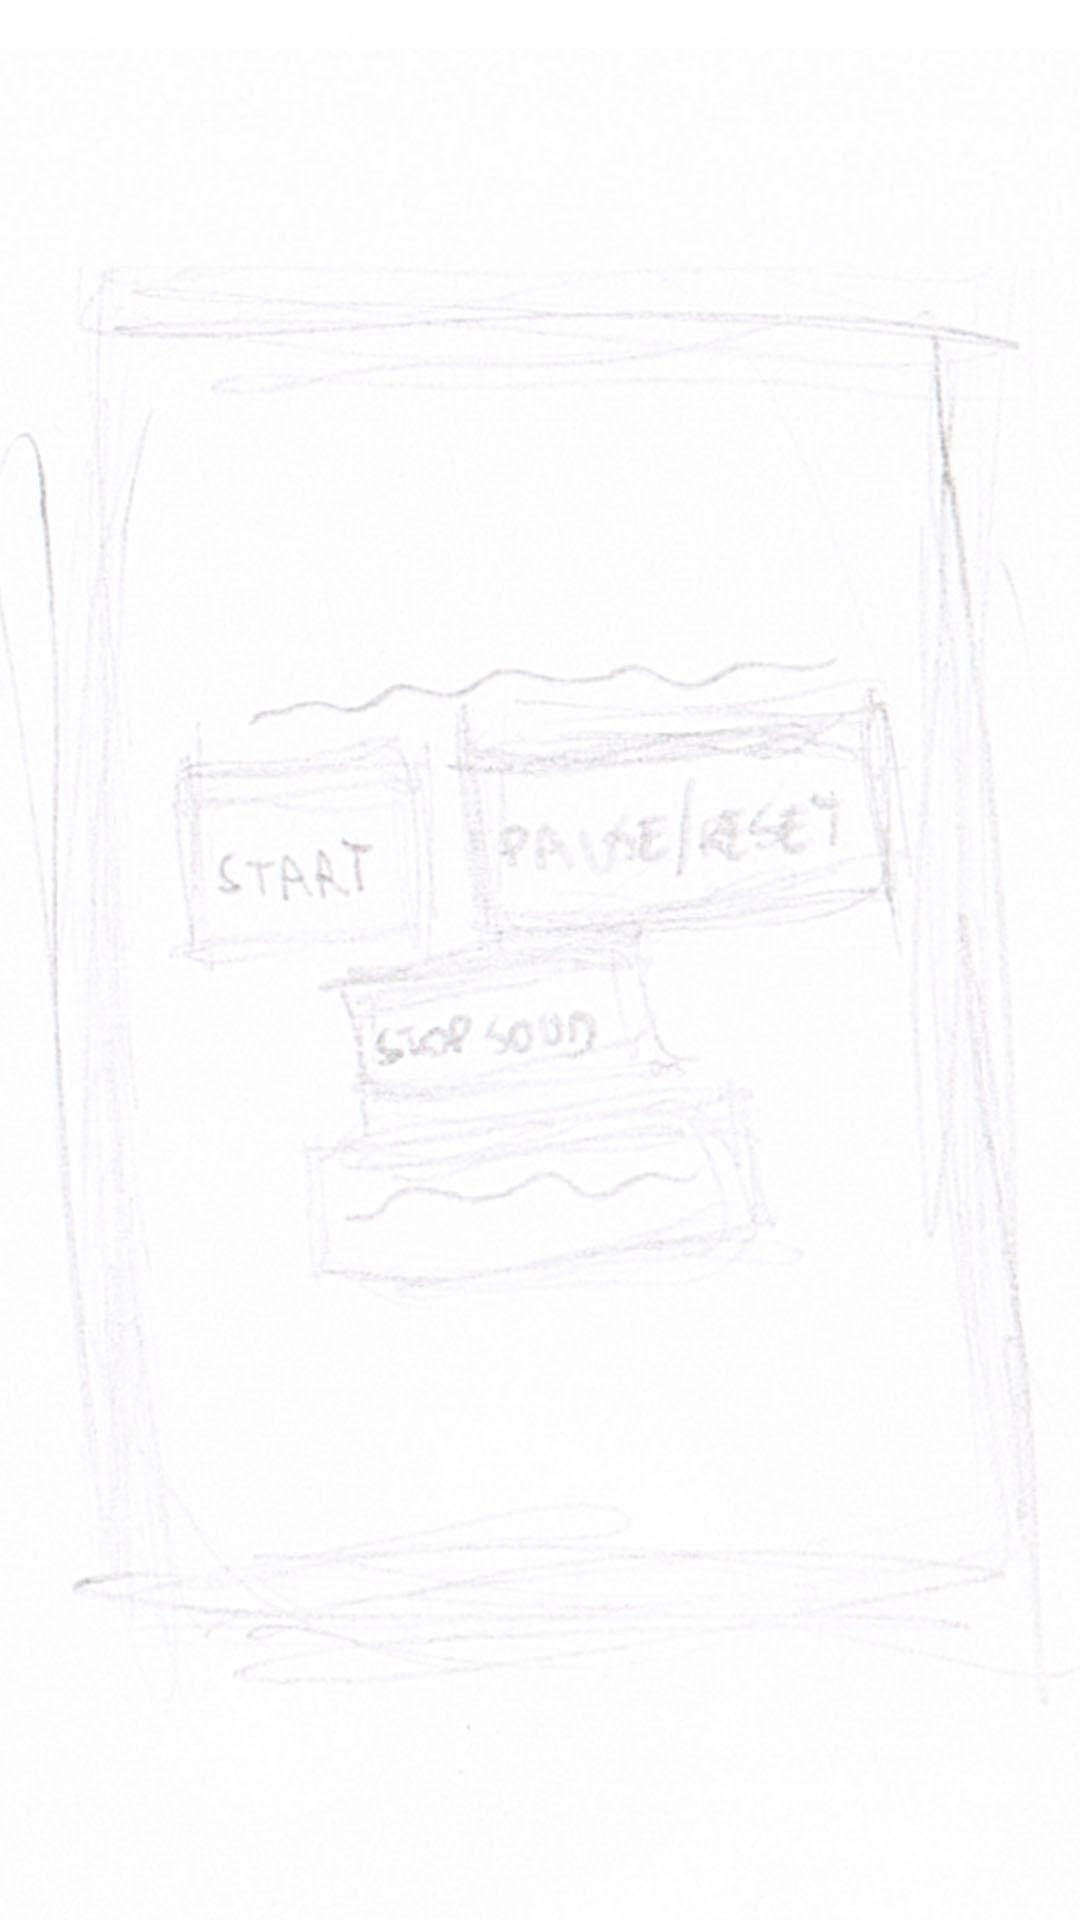Button: (464, 711, 893, 940), (310, 1104, 757, 1279), (179, 761, 431, 963), (342, 949, 647, 1114)
Label: (244, 650, 847, 731)
Screen: (94, 276, 1038, 1646)
